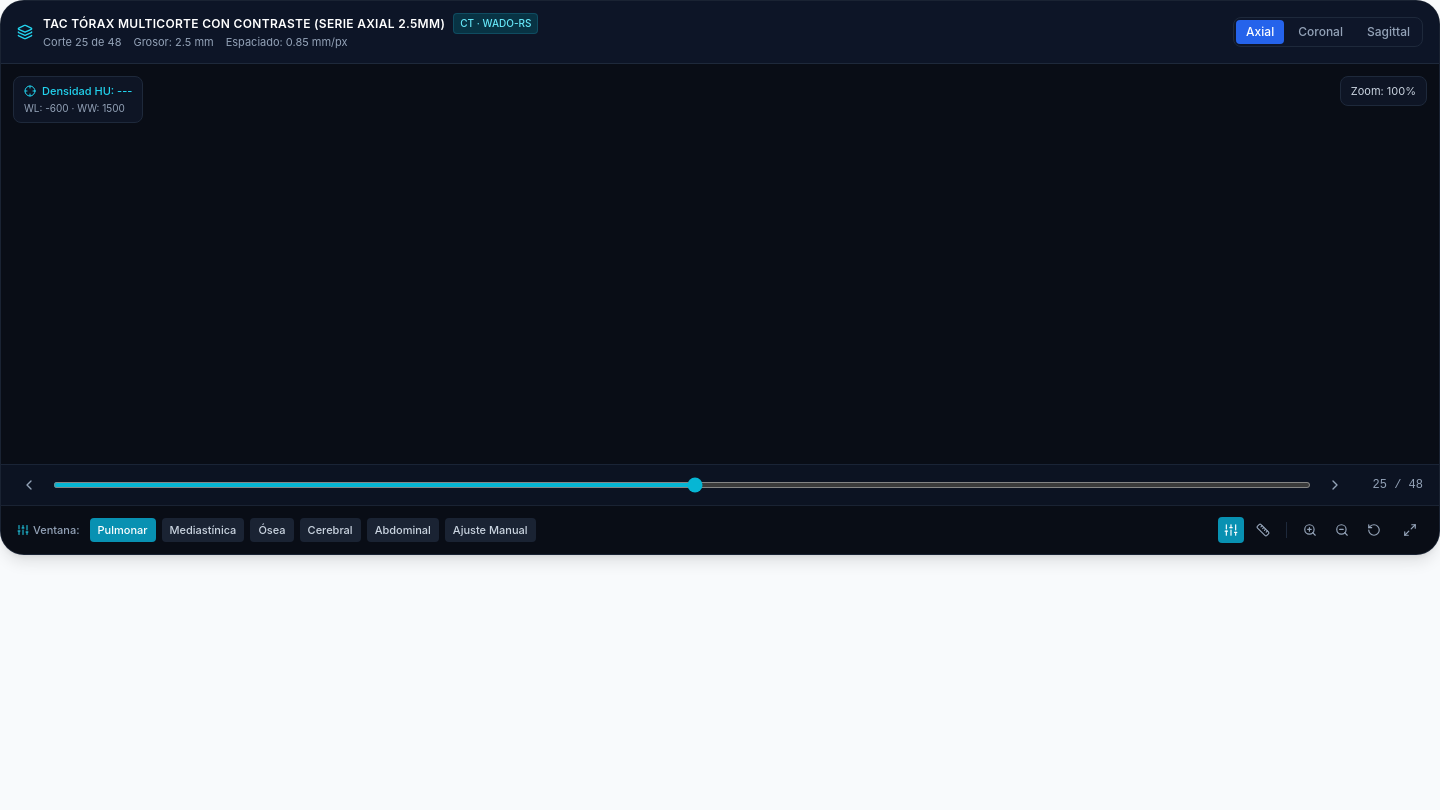
Scenario: Suite de Pruebas: Visor Diagnóstico DICOM / PACS / WADO-RS (DicomStudyViewer - Ateneo+) › permite alternar el modo de pantalla completa y los controles de zoom
Expected: the text "Zoom: 100%" is shown, [1351, 84, 1416, 98]
Click the button named "acercar". click: (1310, 530)
box: [1297, 516, 1323, 542]
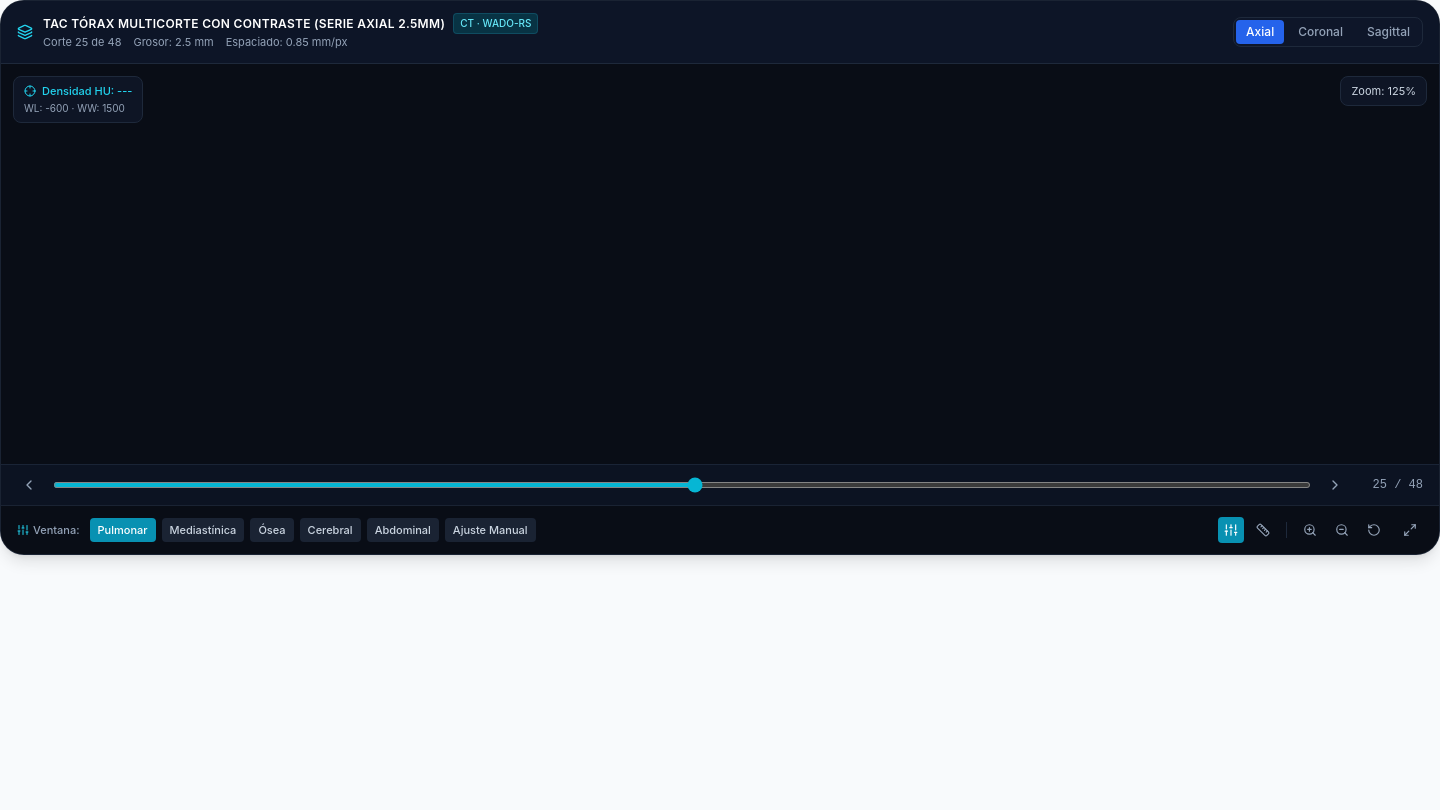
Expected: the text "Zoom: 125%" is shown, [1352, 84, 1416, 98]
Click the button named "alejar". click: (1342, 530)
box: [1329, 516, 1355, 542]
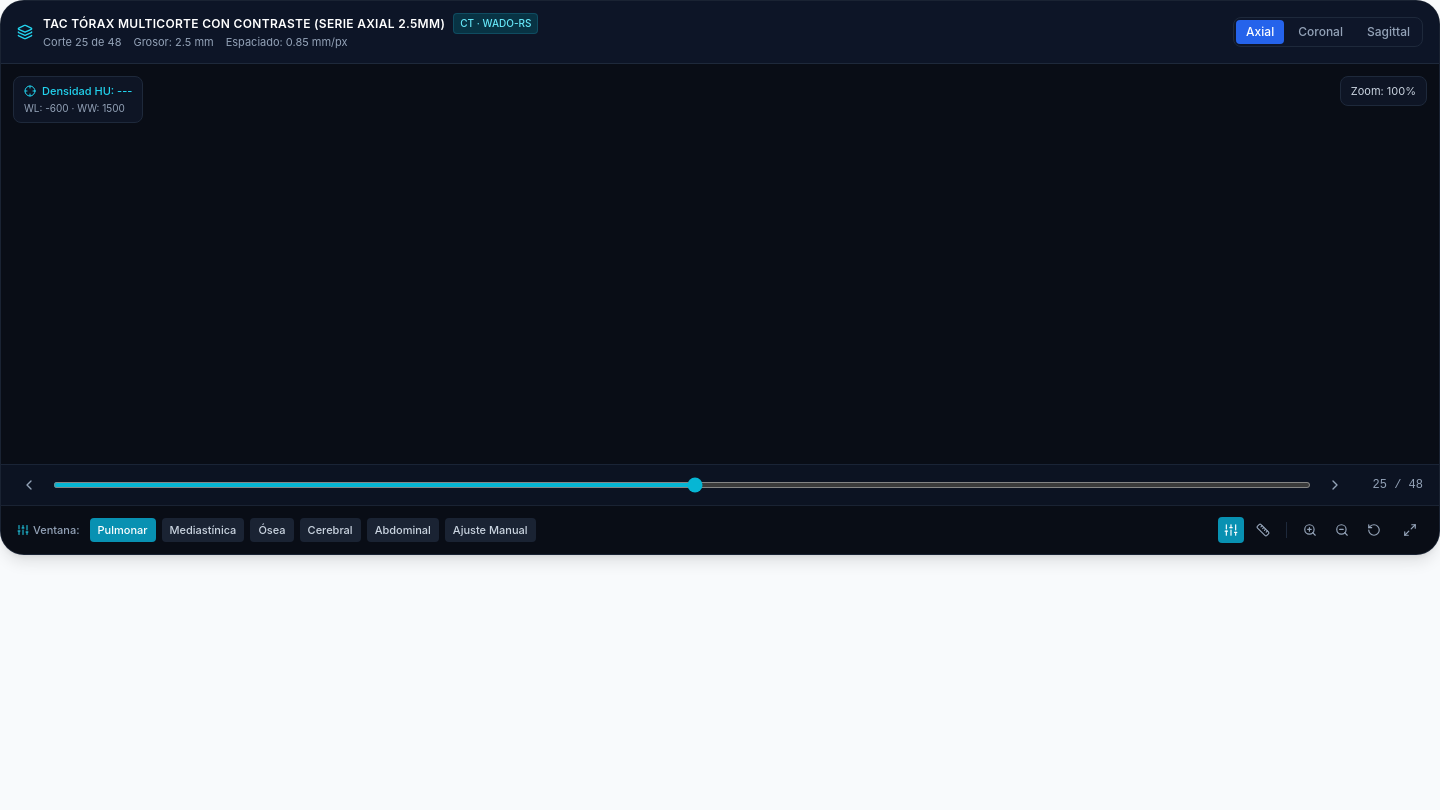
Expected: the text "Zoom: 100%" is shown, [1351, 84, 1416, 98]
Click the button named "pantalla completa". click: (1410, 530)
box: [1397, 516, 1423, 542]
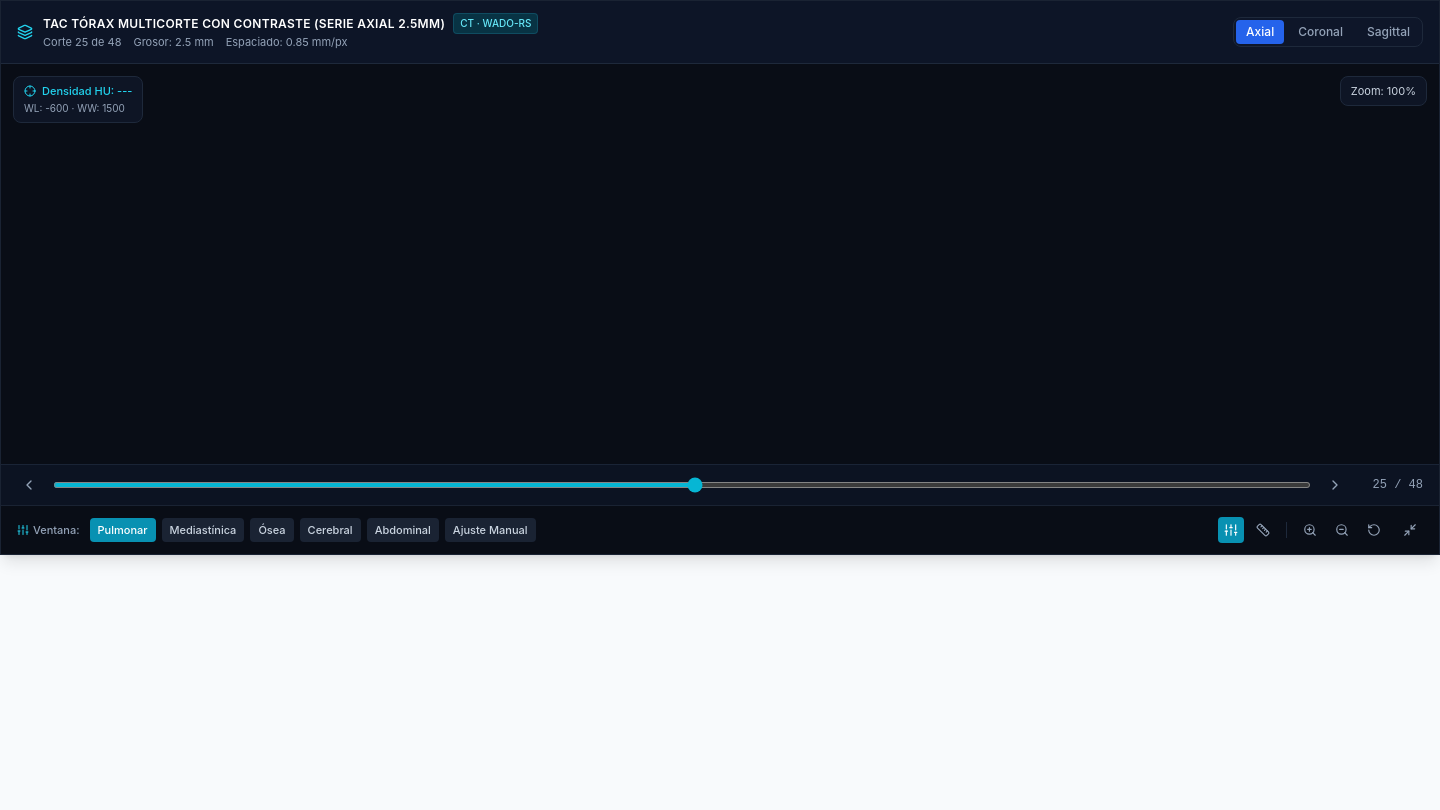
Expected: the button titled "salir de pantalla completa" is shown, [1397, 516, 1423, 542]
